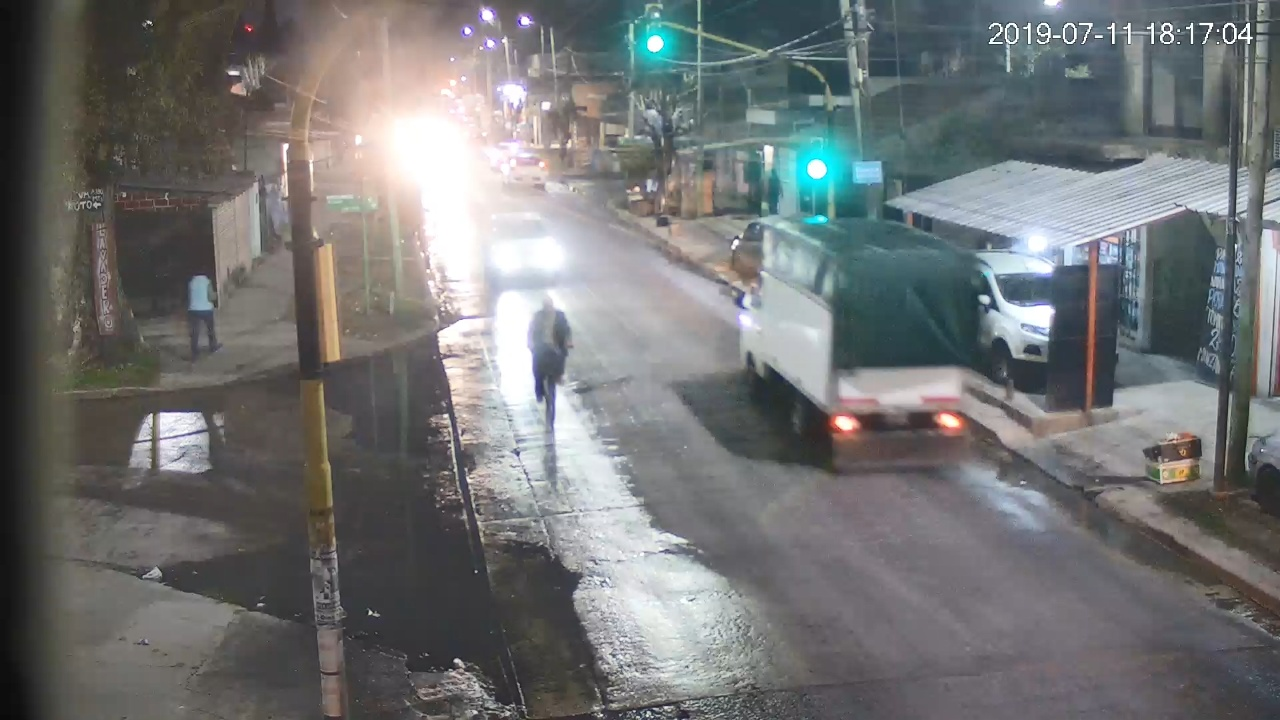traffic light: (645, 3, 663, 53), (809, 138, 825, 179)
truck: (738, 218, 974, 468)
